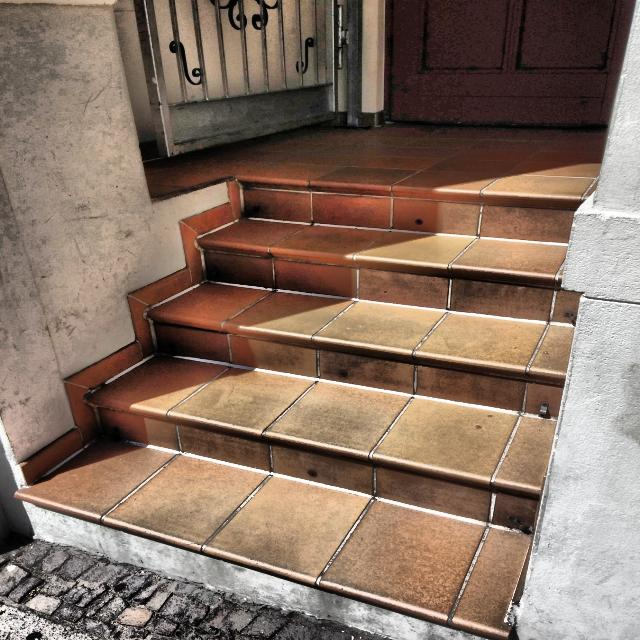escada: (21, 176, 586, 639)
